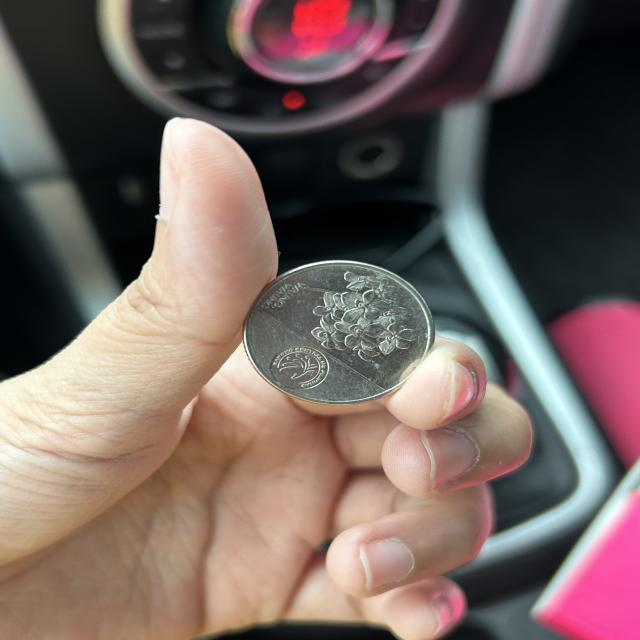1_New_Back: (308, 275, 411, 355)
